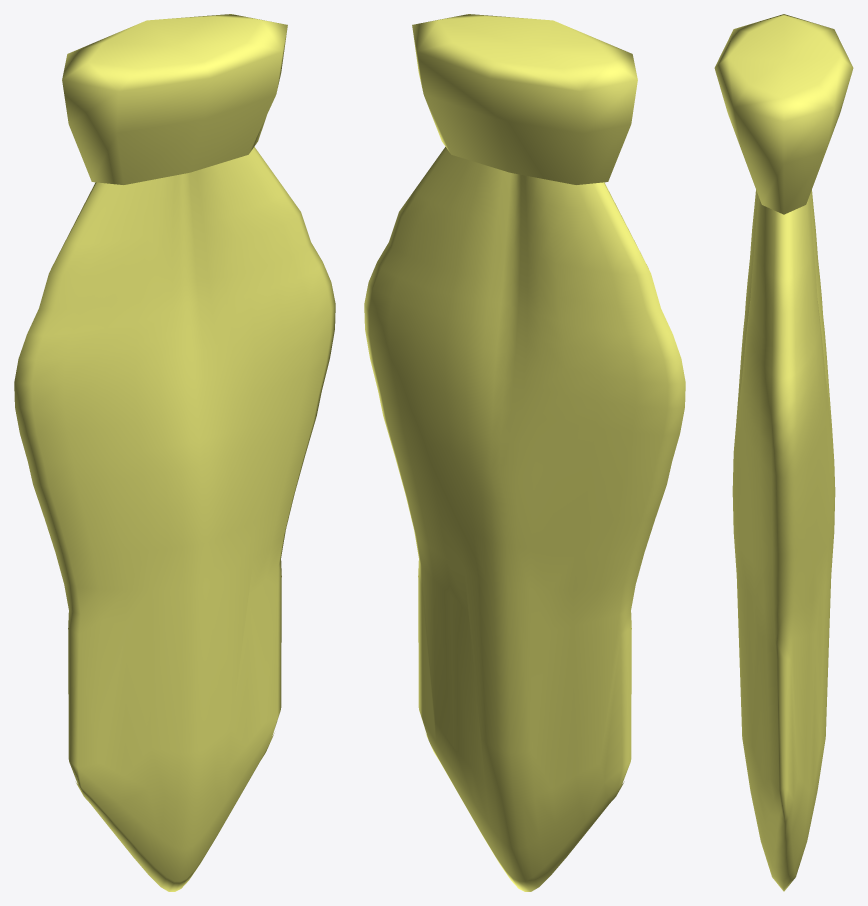
The model's file is tenna tie.fbx.
The picture shows the model from 3 angles, left to right: view 1: azimuth 30°, elevation 25°; view 2: azimuth 150°, elevation 25°; view 3: azimuth 270°, elevation 25°; orthographic projection. The views are drawn at different scales.
Parts seen in each view (by area): view 1: tie; view 2: tie; view 3: tie.
Part boxes in pixels (x1,y1,x2,y2): tie: (14,14,335,891); tie: (364,14,685,891); tie: (714,14,853,891).
Size of the model in its own units: 0.4375 by 1.11 by 0.1672.
